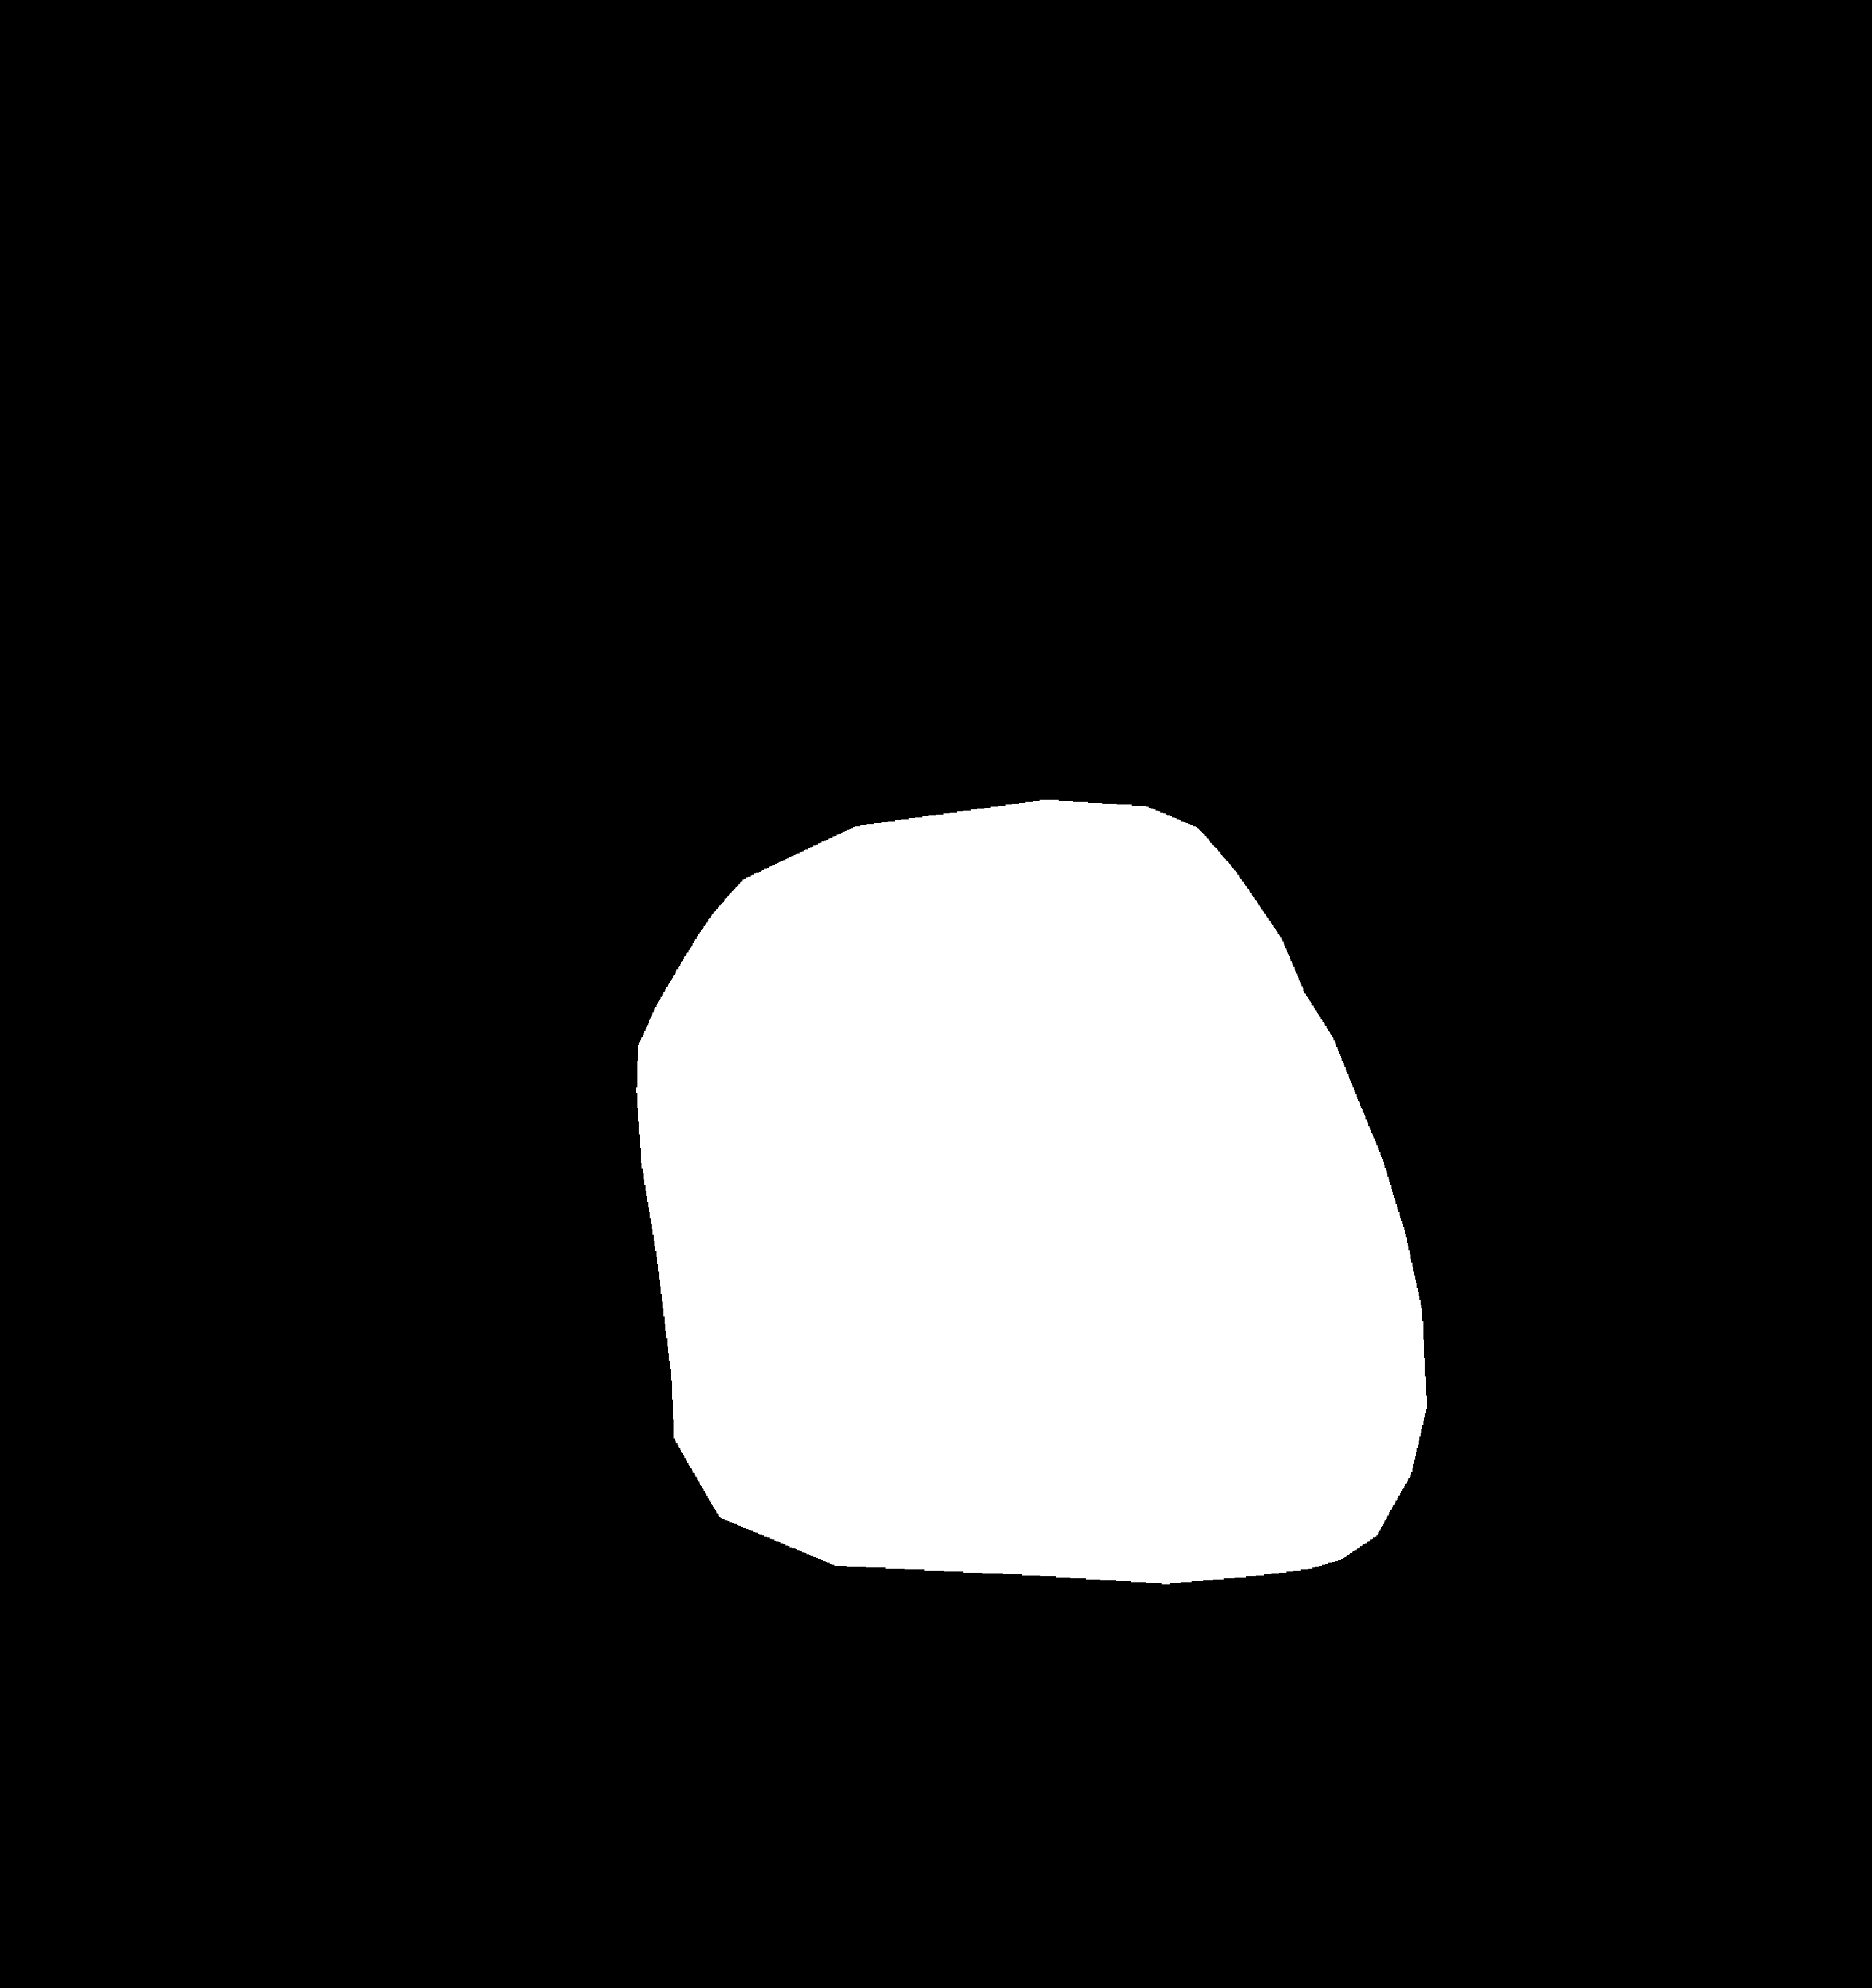heart: (637, 894, 1425, 1573)
left_lung: (188, 194, 962, 1826)
right_lung: (1119, 183, 1682, 1803)
